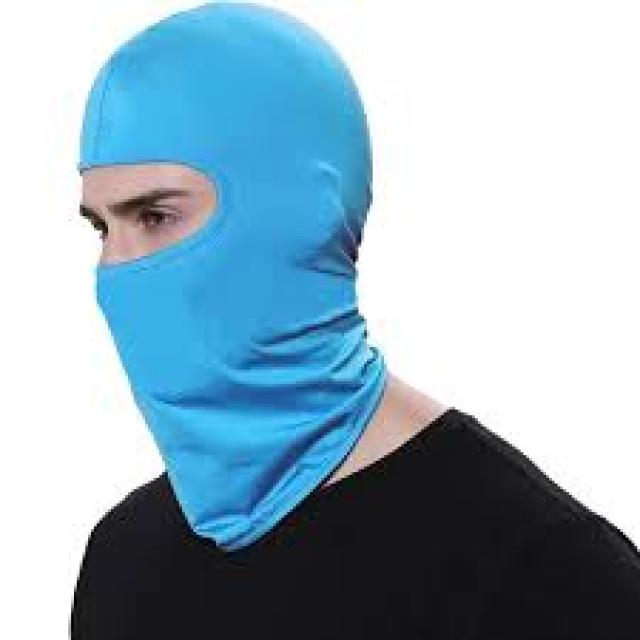6_pasamontana: (79, 0, 390, 555)
